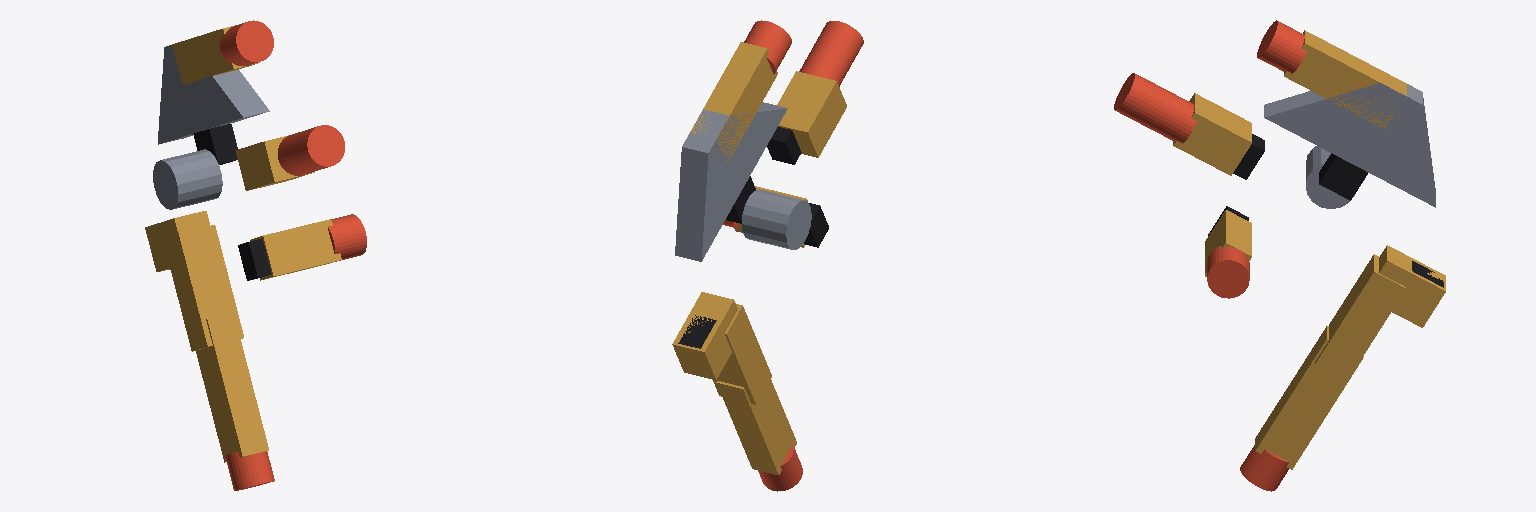
The robot description file, URDF, robot "g0058_c12":
<robot name="g0058_c12">
  <link name="palm">
    <visual name="palm_palm1">
      <origin xyz="0 0 0" rpy="0 0 0" />
      <geometry>
        <mesh filename="palm_palm1.obj" />
      </geometry>
      <material name="palm_palm1_mat">
        <color rgba="0.55 0.57 0.62 1" />
      </material>
    </visual>
    <collision>
      <origin xyz="0 0 0" rpy="0 0 0" />
      <geometry>
        <mesh filename="palm_palm1.obj" />
      </geometry>
    </collision>
    <visual name="palm_mount2">
      <origin xyz="0 0 0" rpy="0 0 0" />
      <geometry>
        <mesh filename="palm_mount2.obj" />
      </geometry>
      <material name="palm_mount2_mat">
        <color rgba="0.55 0.57 0.62 1" />
      </material>
    </visual>
    <collision>
      <origin xyz="0 0 0" rpy="0 0 0" />
      <geometry>
        <mesh filename="palm_mount2.obj" />
      </geometry>
    </collision>
    <visual name="palm_hinge3">
      <origin xyz="0 0.01125 0.0194855716" rpy="-1.57079633 0.523598776 1.57079633" />
      <geometry>
        <box size="0.029 0.034 0.02" />
      </geometry>
      <material name="palm_hinge3_mat">
        <color rgba="0.15 0.15 0.17 1" />
      </material>
    </visual>
    <collision>
      <origin xyz="0 0.01125 0.0194855716" rpy="-1.57079633 0.523598776 1.57079633" />
      <geometry>
        <box size="0.029 0.034 0.02" />
      </geometry>
    </collision>
    <visual name="palm_motor4">
      <origin xyz="-0.007 -0.08 -0.04" rpy="1.06057524e-16 -1.04719755 1.57079633" />
      <geometry>
        <box size="0.029 0.034 0.02" />
      </geometry>
      <material name="palm_motor4_mat">
        <color rgba="0.15 0.15 0.17 1" />
      </material>
    </visual>
    <collision>
      <origin xyz="-0.007 -0.08 -0.04" rpy="1.06057524e-16 -1.04719755 1.57079633" />
      <geometry>
        <box size="0.029 0.034 0.02" />
      </geometry>
    </collision>
    <visual name="palm_motor5">
      <origin xyz="0 -0.0735048095 0.03625" rpy="-1.57079633 -1.04719755 1.57079633" />
      <geometry>
        <box size="0.029 0.034 0.02" />
      </geometry>
      <material name="palm_motor5_mat">
        <color rgba="0.15 0.15 0.17 1" />
      </material>
    </visual>
    <collision>
      <origin xyz="0 -0.0735048095 0.03625" rpy="-1.57079633 -1.04719755 1.57079633" />
      <geometry>
        <box size="0.029 0.034 0.02" />
      </geometry>
    </collision>
    <visual name="palm_motor6">
      <origin xyz="-0.0045 0.0666996732 -0.0867548095" rpy="1.57079633 -0.523598776 -1.57079633" />
      <geometry>
        <box size="0.029 0.034 0.02" />
      </geometry>
      <material name="palm_motor6_mat">
        <color rgba="0.15 0.15 0.17 1" />
      </material>
    </visual>
    <collision>
      <origin xyz="-0.0045 0.0666996732 -0.0867548095" rpy="1.57079633 -0.523598776 -1.57079633" />
      <geometry>
        <box size="0.029 0.034 0.02" />
      </geometry>
    </collision>
    <inertial>
      <origin xyz="1.41216165e-19 -0.00950257392 -0.0256574582" rpy="1.57079633 0.541774934 1.57079633" />
      <mass value="0.874727323" />
      <inertia ixx="0.000827210368" ixy="0" ixz="0" iyy="0.00290196836" iyz="0" izz="0.00364520491" />
    </inertial>
  </link>
  <link name="palm0">
    <visual name="palm0_palm1">
      <origin xyz="0 0 0" rpy="0 0 0" />
      <geometry>
        <mesh filename="palm0_palm1.obj" />
      </geometry>
      <material name="palm0_palm1_mat">
        <color rgba="0.55 0.57 0.62 1" />
      </material>
    </visual>
    <collision>
      <origin xyz="0 0 0" rpy="0 0 0" />
      <geometry>
        <mesh filename="palm0_palm1.obj" />
      </geometry>
    </collision>
    <visual name="palm0_motor2">
      <origin xyz="0 0.0314951905 0.0502692379" rpy="-1.57079633 -1.04719755 1.57079633" />
      <geometry>
        <box size="0.029 0.034 0.02" />
      </geometry>
      <material name="palm0_motor2_mat">
        <color rgba="0.15 0.15 0.17 1" />
      </material>
    </visual>
    <collision>
      <origin xyz="0 0.0314951905 0.0502692379" rpy="-1.57079633 -1.04719755 1.57079633" />
      <geometry>
        <box size="0.029 0.034 0.02" />
      </geometry>
    </collision>
    <inertial>
      <origin xyz="-4.26153546e-19 0.0157254564 0.0288060838" rpy="1.57079633 0.486789144 1.57079633" />
      <mass value="0.28986181" />
      <inertia ixx="0.000121979821" ixy="0" ixz="0" iyy="0.000322523286" iyz="0" izz="0.000416676373" />
    </inertial>
  </link>
  <link name="f0_link0">
    <visual name="f0_link0_link1">
      <origin xyz="0.01875 0 -6.9388939e-18" rpy="4.06369831e-17 2.80588734e-33 -2.0827301e-33" />
      <geometry>
        <box size="0.0615 0.033 0.024" />
      </geometry>
      <material name="f0_link0_link1_mat">
        <color rgba="0.80 0.62 0.30 1" />
      </material>
    </visual>
    <collision>
      <origin xyz="0.01875 0 -6.9388939e-18" rpy="4.06369831e-17 2.80588734e-33 -2.0827301e-33" />
      <geometry>
        <box size="0.0615 0.033 0.024" />
      </geometry>
    </collision>
    <inertial>
      <origin xyz="0.01875 0 0" rpy="0 0 0" />
      <mass value="0.085239" />
      <inertia ixx="1.18269113e-05" ixy="0" ixz="0" iyy="3.09577393e-05" iyz="0" izz="3.46017066e-05" />
    </inertial>
  </link>
  <link name="f0_link1">
    <visual name="f0_link1_link1">
      <origin xyz="0.019 6.9388939e-18 -6.9388939e-18" rpy="-1.57079633 -0 -1.57079633" />
      <geometry>
        <cylinder radius="0.0165" length="0.029" />
      </geometry>
      <material name="f0_link1_link1_mat">
        <color rgba="0.85 0.35 0.25 1" />
      </material>
    </visual>
    <collision>
      <origin xyz="0.019 6.9388939e-18 -6.9388939e-18" rpy="-1.57079633 -0 -1.57079633" />
      <geometry>
        <cylinder radius="0.0165" length="0.029" />
      </geometry>
    </collision>
    <inertial>
      <origin xyz="0.019 0 0" rpy="0 0 0" />
      <mass value="0.0763354" />
      <inertia ixx="9.49466441e-06" ixy="0" ixz="0" iyy="2.24143997e-05" iyz="0" izz="2.24143997e-05" />
    </inertial>
  </link>
  <link name="f1_link0">
    <visual name="f1_link0_link1">
      <origin xyz="0.014 -0.00625 -4.33680869e-18" rpy="0 7.03853194e-17 0" />
      <geometry>
        <box size="0.052 0.0365 0.033" />
      </geometry>
      <material name="f1_link0_link1_mat">
        <color rgba="0.80 0.62 0.30 1" />
      </material>
    </visual>
    <collision>
      <origin xyz="0.014 -0.00625 -4.33680869e-18" rpy="0 7.03853194e-17 0" />
      <geometry>
        <box size="0.052 0.0365 0.033" />
      </geometry>
    </collision>
    <inertial>
      <origin xyz="0.014 -0.00625 0" rpy="0 0 0" />
      <mass value="0.1096095" />
      <inertia ixx="2.21160002e-05" ixy="0" ixz="0" iyy="3.46457361e-05" iyz="0" izz="3.6867612e-05" />
    </inertial>
  </link>
  <link name="f1_link1">
    <visual name="f1_link1_link1">
      <origin xyz="0.034 0 1.30104261e-18" rpy="-1.57079633 -0 -1.57079633" />
      <geometry>
        <cylinder radius="0.0165" length="0.059" />
      </geometry>
      <material name="f1_link1_link1_mat">
        <color rgba="0.85 0.35 0.25 1" />
      </material>
    </visual>
    <collision>
      <origin xyz="0.034 0 1.30104261e-18" rpy="-1.57079633 -0 -1.57079633" />
      <geometry>
        <cylinder radius="0.0165" length="0.059" />
      </geometry>
    </collision>
    <inertial>
      <origin xyz="0.034 0 0" rpy="0 0 0" />
      <mass value="0.121238577" />
      <inertia ixx="1.56071093e-05" ixy="0" ixz="0" iyy="7.58912764e-05" iyz="0" izz="7.58912764e-05" />
    </inertial>
  </link>
  <link name="f2_link0">
    <visual name="f2_link0_link1">
      <origin xyz="-0.00625 0 -0.0165" rpy="0 4.06369831e-17 0" />
      <geometry>
        <box size="0.0365 0.029 0.053" />
      </geometry>
      <material name="f2_link0_link1_mat">
        <color rgba="0.80 0.62 0.30 1" />
      </material>
    </visual>
    <collision>
      <origin xyz="-0.00625 0 -0.0165" rpy="0 4.06369831e-17 0" />
      <geometry>
        <box size="0.0365 0.029 0.053" />
      </geometry>
    </collision>
    <inertial>
      <origin xyz="-0.00625 0 -0.0165" rpy="0 0 0" />
      <mass value="0.098175875" />
      <inertia ixx="2.98618286e-05" ixy="0" ixz="0" iyy="3.38809035e-05" iyz="0" izz="1.778006e-05" />
    </inertial>
  </link>
  <link name="f2_link1">
    <visual name="f2_link1_link1">
      <origin xyz="0.03375 0 0" rpy="0 4.06369831e-17 0" />
      <geometry>
        <box size="0.0915 0.033 0.029" />
      </geometry>
      <material name="f2_link1_link1_mat">
        <color rgba="0.80 0.62 0.30 1" />
      </material>
    </visual>
    <collision>
      <origin xyz="0.03375 0 0" rpy="0 4.06369831e-17 0" />
      <geometry>
        <box size="0.0915 0.033 0.029" />
      </geometry>
    </collision>
    <inertial>
      <origin xyz="0.03375 0 0" rpy="0 0 0" />
      <mass value="0.153239625" />
      <inertia ixx="2.46460397e-05" ixy="0" ixz="0" iyy="0.000117652915" iyz="0" izz="0.000120819867" />
    </inertial>
  </link>
  <link name="f2_link2">
    <visual name="f2_link2_link1">
      <origin xyz="0.04375 0 -1.38777878e-17" rpy="0 4.06369831e-17 0" />
      <geometry>
        <box size="0.1115 0.024 0.033" />
      </geometry>
      <material name="f2_link2_link1_mat">
        <color rgba="0.80 0.62 0.30 1" />
      </material>
    </visual>
    <collision>
      <origin xyz="0.04375 0 -1.38777878e-17" rpy="0 4.06369831e-17 0" />
      <geometry>
        <box size="0.1115 0.024 0.033" />
      </geometry>
    </collision>
    <inertial>
      <origin xyz="0.04375 0 0" rpy="0 0 0" />
      <mass value="0.154539" />
      <inertia ixx="2.14422863e-05" ixy="0" ixz="0" iyy="0.000174130038" iyz="0" izz="0.000167523496" />
    </inertial>
  </link>
  <link name="f2_link3">
    <visual name="f2_link3_link1">
      <origin xyz="0.019 0 0" rpy="-1.57079633 -0 -1.57079633" />
      <geometry>
        <cylinder radius="0.0165" length="0.029" />
      </geometry>
      <material name="f2_link3_link1_mat">
        <color rgba="0.85 0.35 0.25 1" />
      </material>
    </visual>
    <collision>
      <origin xyz="0.019 0 0" rpy="-1.57079633 -0 -1.57079633" />
      <geometry>
        <cylinder radius="0.0165" length="0.029" />
      </geometry>
    </collision>
    <inertial>
      <origin xyz="0.019 0 0" rpy="0 0 0" />
      <mass value="0.0763354" />
      <inertia ixx="9.49466441e-06" ixy="0" ixz="0" iyy="2.24143997e-05" iyz="0" izz="2.24143997e-05" />
    </inertial>
  </link>
  <link name="f3_link0">
    <visual name="f3_link0_link1">
      <origin xyz="0.03375 0 0" rpy="0 7.03853194e-17 0" />
      <geometry>
        <box size="0.0915 0.024 0.033" />
      </geometry>
      <material name="f3_link0_link1_mat">
        <color rgba="0.80 0.62 0.30 1" />
      </material>
    </visual>
    <collision>
      <origin xyz="0.03375 0 0" rpy="0 7.03853194e-17 0" />
      <geometry>
        <box size="0.0915 0.024 0.033" />
      </geometry>
    </collision>
    <inertial>
      <origin xyz="0.03375 0 0" rpy="0 0 0" />
      <mass value="0.126819" />
      <inertia ixx="1.75961363e-05" ixy="0" ixz="0" iyy="9.99888553e-05" iyz="0" izz="9.45673431e-05" />
    </inertial>
  </link>
  <link name="f3_link1">
    <visual name="f3_link1_link1">
      <origin xyz="0.019 0 -6.9388939e-18" rpy="-1.57079633 -0 -1.57079633" />
      <geometry>
        <cylinder radius="0.0165" length="0.029" />
      </geometry>
      <material name="f3_link1_link1_mat">
        <color rgba="0.85 0.35 0.25 1" />
      </material>
    </visual>
    <collision>
      <origin xyz="0.019 0 -6.9388939e-18" rpy="-1.57079633 -0 -1.57079633" />
      <geometry>
        <cylinder radius="0.0165" length="0.029" />
      </geometry>
    </collision>
    <inertial>
      <origin xyz="0.019 0 0" rpy="0 0 0" />
      <mass value="0.0763354" />
      <inertia ixx="9.49466441e-06" ixy="0" ixz="0" iyy="2.24143997e-05" iyz="0" izz="2.24143997e-05" />
    </inertial>
  </link>
  <joint name="palm0_joint" type="revolute">
    <parent link="palm" />
    <child link="palm0" />
    <origin xyz="0 0.015 0.0259807621" rpy="0 0 0" />
    <axis xyz="0 0.866025404 -0.5" />
    <limit effort="0.5" lower="-0.523598776" upper="0.523598776" velocity="5" />
    <dynamics damping="0.0775033" friction="0" />
  </joint>
  <joint name="f0_j0" type="revolute">
    <parent link="palm" />
    <child link="f0_link0" />
    <origin xyz="0.0005 -0.08 -0.04" rpy="1.04719755 5.30287619e-17 -3.061617e-17" />
    <axis xyz="0 1 6.123234e-17" />
    <limit effort="0.5" lower="-0.523598776" upper="0.523598776" velocity="5" />
    <dynamics damping="0.0775033" friction="0" />
  </joint>
  <joint name="f0_j1" type="revolute">
    <parent link="f0_link0" />
    <child link="f0_link1" />
    <origin xyz="0.04 0 0" rpy="0 0 0" />
    <axis xyz="0 1 6.123234e-17" />
    <limit effort="0.5" lower="-0.523598776" upper="0.523598776" velocity="5" />
    <dynamics damping="0.0775033" friction="0" />
  </joint>
  <joint name="f1_j0" type="revolute">
    <parent link="palm" />
    <child link="f1_link0" />
    <origin xyz="0 -0.08 0.04" rpy="-0 -0.523598776 -1.57079633" />
    <axis xyz="0 0 1" />
    <limit effort="0.5" lower="-0.523598776" upper="1.57079633" velocity="5" />
    <dynamics damping="0.0775033" friction="0" />
  </joint>
  <joint name="f1_j1" type="revolute">
    <parent link="f1_link0" />
    <child link="f1_link1" />
    <origin xyz="0.03 0 0" rpy="0 0 0" />
    <axis xyz="0 0 1" />
    <limit effort="0.5" lower="-0.523598776" upper="1.57079633" velocity="5" />
    <dynamics damping="0.0775033" friction="0" />
  </joint>
  <joint name="f2_j0" type="revolute">
    <parent link="palm" />
    <child link="f2_link0" />
    <origin xyz="-0.0045 0.04 -0.08" rpy="0 1.04719755 -1.57079633" />
    <axis xyz="0 0 1" />
    <limit effort="0.5" lower="-0.523598776" upper="1.57079633" velocity="5" />
    <dynamics damping="0.0775033" friction="0" />
  </joint>
  <joint name="f2_j1" type="revolute">
    <parent link="f2_link0" />
    <child link="f2_link1" />
    <origin xyz="0 0 0" rpy="0 0 0" />
    <axis xyz="0 1 6.123234e-17" />
    <limit effort="0.5" lower="-0.523598776" upper="0.523598776" velocity="5" />
    <dynamics damping="0.0775033" friction="0" />
  </joint>
  <joint name="f2_j2" type="revolute">
    <parent link="f2_link1" />
    <child link="f2_link2" />
    <origin xyz="0.07 0 0" rpy="0 0 0" />
    <axis xyz="0 0 1" />
    <limit effort="0.5" lower="-0.523598776" upper="1.57079633" velocity="5" />
    <dynamics damping="0.0775033" friction="0" />
  </joint>
  <joint name="f2_j3" type="revolute">
    <parent link="f2_link2" />
    <child link="f2_link3" />
    <origin xyz="0.09 0 0" rpy="0 0 0" />
    <axis xyz="0 0 1" />
    <limit effort="0.5" lower="-0.523598776" upper="1.57079633" velocity="5" />
    <dynamics damping="0.0775033" friction="0" />
  </joint>
  <joint name="f3_j0" type="revolute">
    <parent link="palm0" />
    <child link="f3_link0" />
    <origin xyz="0 0.025 0.0540192379" rpy="-0 -0.523598776 -1.57079633" />
    <axis xyz="0 0 1" />
    <limit effort="0.5" lower="-0.523598776" upper="1.57079633" velocity="5" />
    <dynamics damping="0.0775033" friction="0" />
  </joint>
  <joint name="f3_j1" type="revolute">
    <parent link="f3_link0" />
    <child link="f3_link1" />
    <origin xyz="0.07 0 0" rpy="0 0 0" />
    <axis xyz="0 0 1" />
    <limit effort="0.5" lower="-0.523598776" upper="1.57079633" velocity="5" />
    <dynamics damping="0.0775033" friction="0" />
  </joint>
</robot>

--- What the picture shows (computed from the rendered views, not written in the file) ---
3 views of the same robot in one strip: view 1: azimuth 30°, elevation 25°; view 2: azimuth 150°, elevation 25°; view 3: azimuth 270°, elevation 25° (orthographic).
Robot: g0058_c12 — 12 links, 11 joints (11 revolute); root link palm; default pose: all joints at 0.
Links seen in each view (by area): view 1: f2_link2, palm0, f2_link1, palm, f0_link0, f1_link1, f3_link0, f1_link0, f3_link1, f2_link0, f2_link3, f0_link1; view 2: palm0, palm, f2_link2, f3_link0, f1_link0, f2_link0, f2_link1, f1_link1, f3_link1, f2_link3; view 3: palm0, f2_link2, f2_link1, f3_link0, palm, f1_link0, f1_link1, f2_link0, f0_link1, f3_link1, f0_link0, f2_link3.
Boxes of the visible links, x1,y1,x2,y2 form: f2_link2: (196, 312, 268, 462); palm0: (158, 40, 269, 144); f2_link1: (162, 225, 243, 351); palm: (153, 124, 271, 280); f0_link0: (250, 219, 341, 280); f1_link1: (278, 125, 344, 175); f3_link0: (172, 26, 259, 84); f1_link0: (235, 135, 314, 190); f3_link1: (220, 20, 273, 66); f2_link0: (145, 211, 209, 271); f2_link3: (225, 451, 274, 490); f0_link1: (328, 214, 366, 261); palm0: (675, 102, 787, 261); palm: (678, 127, 828, 348); f2_link2: (716, 380, 796, 474); f3_link0: (690, 42, 777, 161); f1_link0: (777, 71, 846, 157); f2_link0: (672, 292, 737, 379); f2_link1: (713, 304, 771, 404); f1_link1: (799, 21, 863, 86); f3_link1: (744, 20, 791, 73); f2_link3: (758, 445, 802, 491); palm0: (1264, 83, 1435, 207); f2_link2: (1255, 326, 1363, 469); f2_link1: (1315, 254, 1405, 380); f3_link0: (1284, 30, 1406, 128); palm: (1208, 134, 1443, 287); f1_link0: (1173, 93, 1251, 175); f1_link1: (1114, 73, 1196, 143); f2_link0: (1379, 245, 1445, 327); f0_link1: (1207, 246, 1249, 298); f3_link1: (1257, 20, 1306, 73); f0_link0: (1205, 210, 1251, 276); f2_link3: (1240, 445, 1288, 491).
Size in the robot's own frame: 0.126 by 0.2587 by 0.4019 metres.
2 mesh visuals loaded from 3 distinct referenced files (2 OBJ); not drawn: 1 (reference not matched to a file when rendering).
